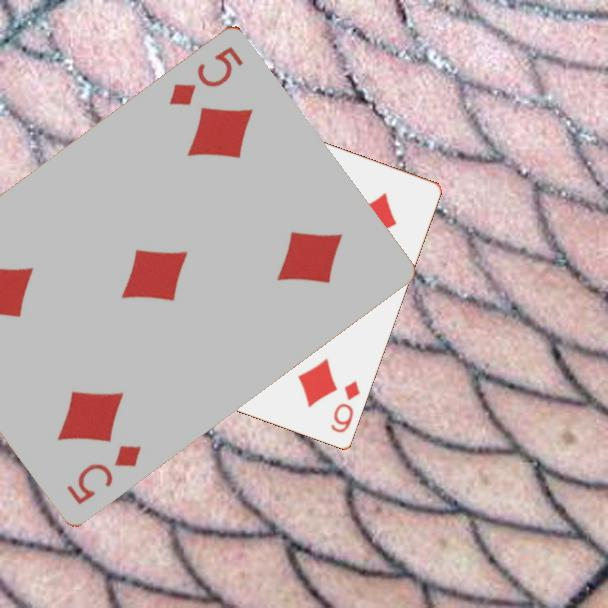d05: (165, 42, 247, 108), (63, 441, 144, 507)
d06: (327, 376, 363, 435)
